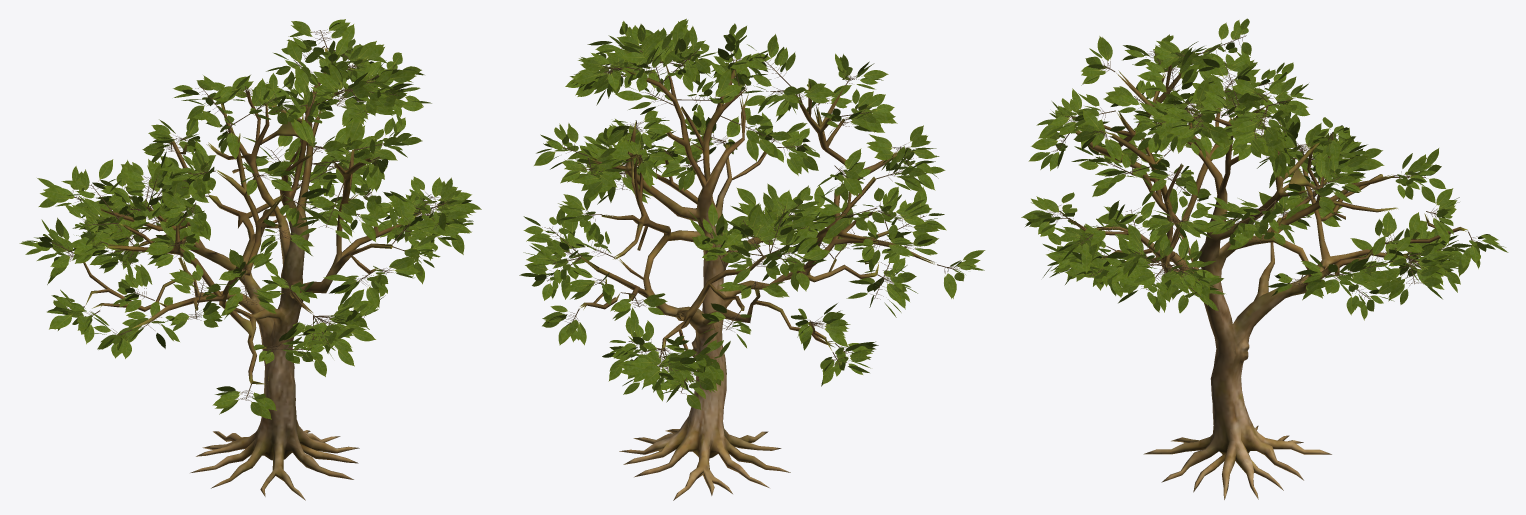
Rendered from natural-tree-thin-foliage-v4.glb.
3 renders of one model, left to right at view 1: azimuth 30°, elevation 25°; view 2: azimuth 150°, elevation 25°; view 3: azimuth 270°, elevation 25°, orthographic.
Parts seen in each view (by area): view 1: NaturalThinLeaves, RetainedTripoBranches, ConnectedLeafTwigs; view 2: NaturalThinLeaves, RetainedTripoBranches, ConnectedLeafTwigs; view 3: NaturalThinLeaves, RetainedTripoBranches, ConnectedLeafTwigs.
Boxes of the visible parts, x1,y1,x2,y2 form: NaturalThinLeaves: [19, 19, 481, 419]; RetainedTripoBranches: [83, 48, 421, 500]; ConnectedLeafTwigs: [50, 29, 449, 401]; NaturalThinLeaves: [519, 18, 985, 409]; RetainedTripoBranches: [580, 59, 934, 500]; ConnectedLeafTwigs: [542, 34, 961, 393]; NaturalThinLeaves: [1021, 18, 1508, 320]; RetainedTripoBranches: [1070, 65, 1467, 499]; ConnectedLeafTwigs: [1047, 31, 1484, 299].
Bounding box in the file's own units: 0.9557 × 0.9726 × 1.02.
Materials: 3 (2 with a texture image).
